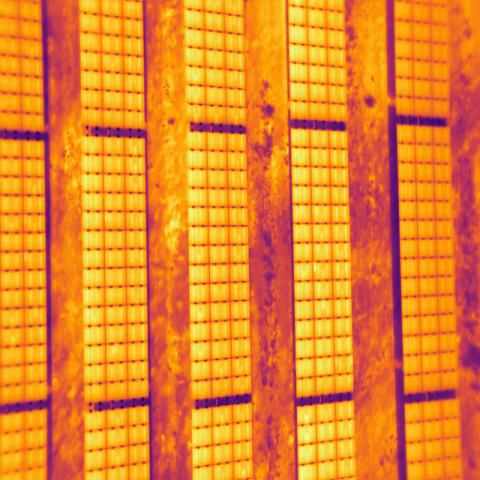fault: (297, 406, 316, 445)
